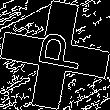P_W: (26, 32, 84, 78)
